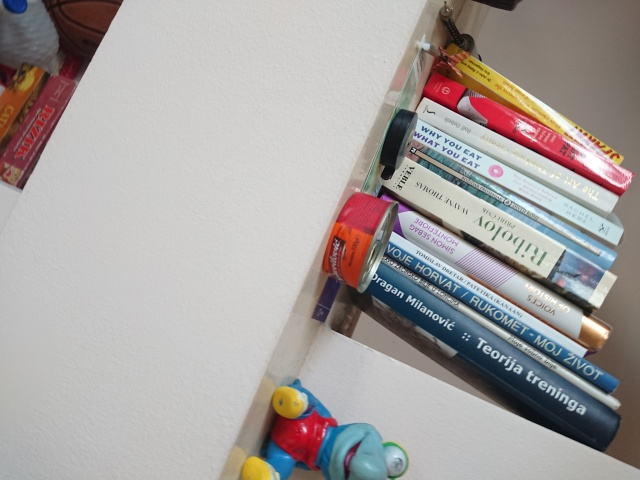Gavrilovic Pork Liver Pate 100g: (319, 189, 400, 296)
